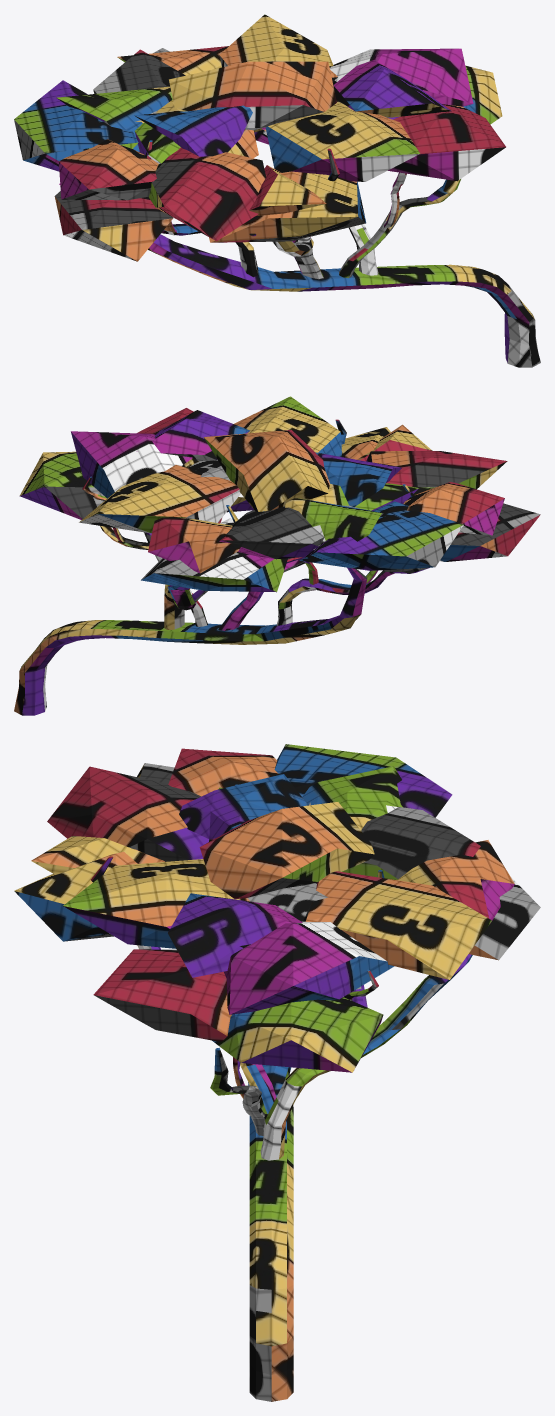
The model's file is tree_model2.dae.
3 views of the same model, one above another, from view 1: azimuth 30°, elevation 25°; view 2: azimuth 150°, elevation 25°; view 3: azimuth 270°, elevation 25° (orthographic). The views are drawn at different scales.
Parts seen in each view (by area): view 1: Cylinder; view 2: Cylinder; view 3: Cylinder.
Part boxes in pixels (<box>): Cylinder: <box>14,14,540,367</box>; Cylinder: <box>14,396,540,715</box>; Cylinder: <box>14,744,540,1401</box>.
Bounding box in the file's own units: 11.69 × 8.83 × 7.91.
2 materials, 2 textured.
